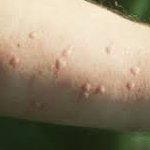Ants: (51, 54, 69, 71), (29, 98, 48, 112), (102, 41, 117, 56), (125, 63, 141, 76), (8, 54, 20, 68), (60, 46, 73, 57), (80, 89, 91, 98), (28, 31, 37, 39), (126, 82, 134, 91), (95, 85, 104, 93), (84, 83, 90, 90)
